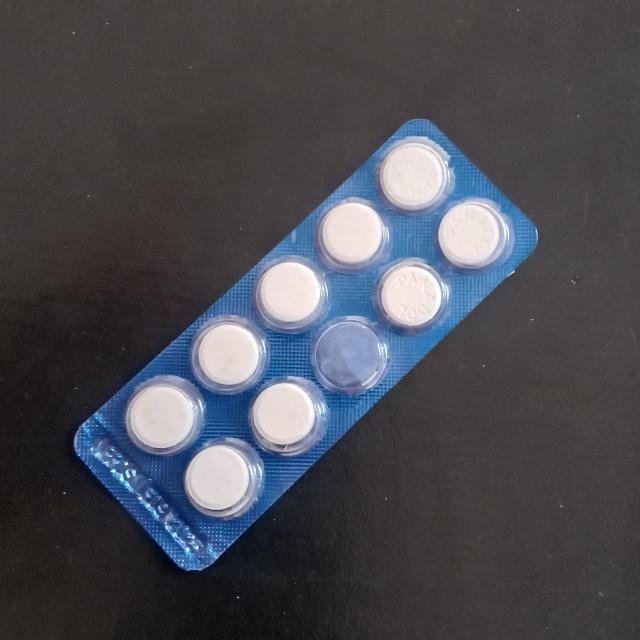defect: (312, 316, 390, 394)
